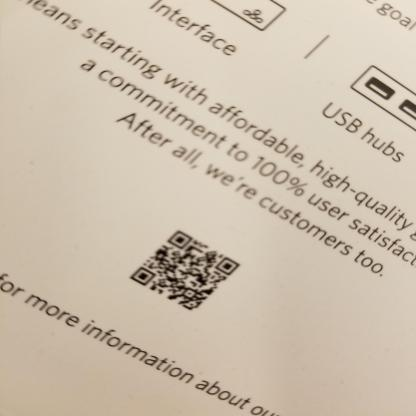qr: (124, 226, 245, 312)
